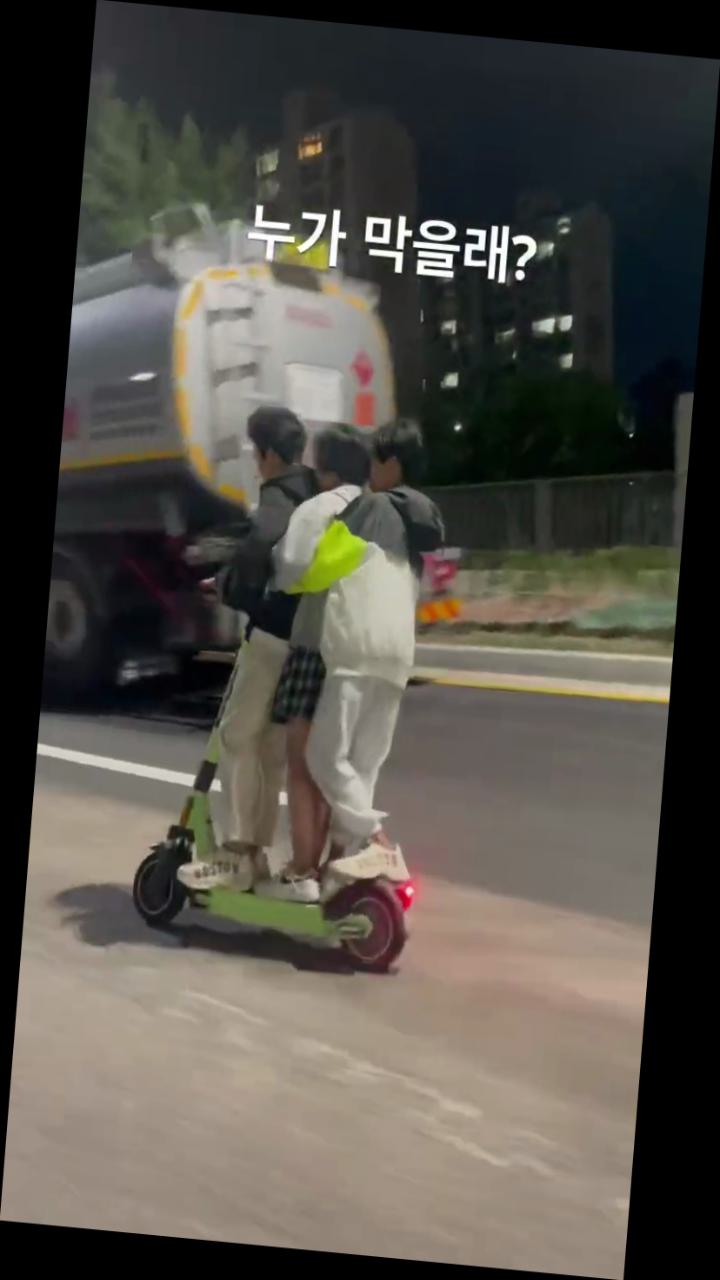multiple: (120, 384, 471, 972)
